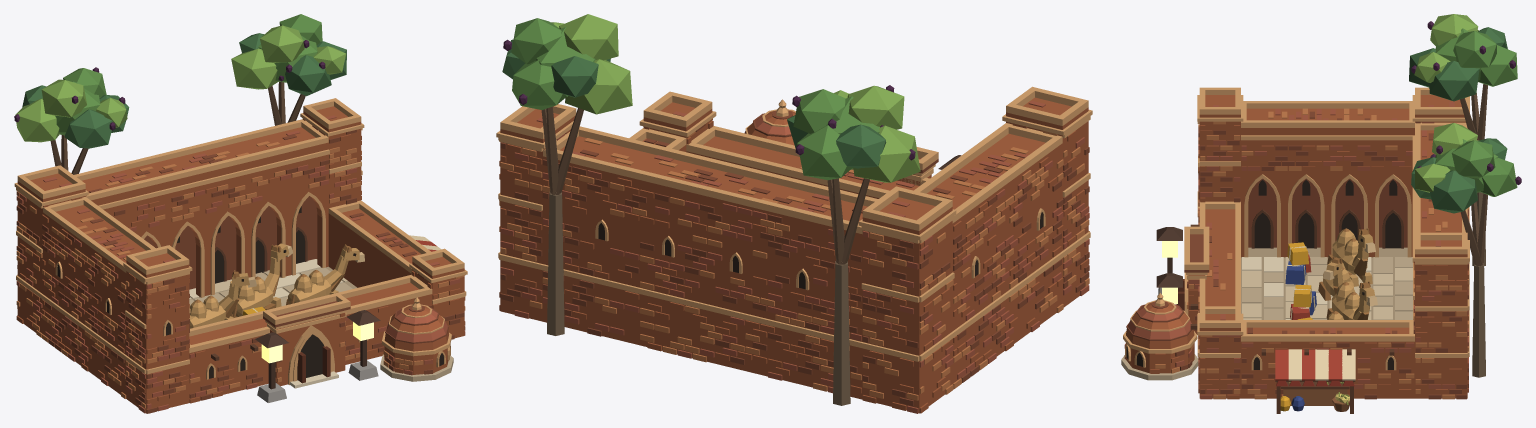
File: caravanserai_town.glb
3 renders of one model, left to right at view 1: azimuth 30°, elevation 25°; view 2: azimuth 150°, elevation 25°; view 3: azimuth 270°, elevation 25°, orthographic. The views are drawn at different scales.
Parts seen in each view (by area): view 1: caravanserai_town_CS_Brick, caravanserai_town_CS_EarthLight, caravanserai_town_CS_BrickDark, caravanserai_town_CS_LeafFreshLight, caravanserai_town_CS_BrickWarm, caravanserai_town_CS_BrickLight, caravanserai_town_CS_Camel, caravanserai_town_CS_LeafFreshDark, caravanserai_town_CS_LeafFresh, caravanserai_town_CS_Branch, caravanserai_town_CS_StoneMid, caravanserai_town_CS_Dark (+8 smaller); view 2: caravanserai_town_CS_Brick, caravanserai_town_CS_EarthLight, caravanserai_town_CS_BrickLight, caravanserai_town_CS_BrickWarm, caravanserai_town_CS_BrickDark, caravanserai_town_CS_LeafFreshLight, caravanserai_town_CS_LeafFresh, caravanserai_town_CS_Bark, caravanserai_town_CS_LeafFreshDark, caravanserai_town_CS_Branch, caravanserai_town_CS_Dark; view 3: caravanserai_town_CS_Brick, caravanserai_town_CS_EarthLight, caravanserai_town_CS_BrickDark, caravanserai_town_CS_LeafFresh, caravanserai_town_CS_BrickWarm, caravanserai_town_CS_LeafFreshDark, caravanserai_town_CS_BrickLight, caravanserai_town_CS_StoneMid, caravanserai_town_CS_LeafFreshLight, caravanserai_town_CS_Camel, caravanserai_town_CS_Stone, caravanserai_town_CS_Dark (+14 smaller).
Part boxes in pixels (left/top/right/bottom): caravanserai_town_CS_Brick: left=16, top=106, right=465, bottom=413; caravanserai_town_CS_EarthLight: left=14, top=98, right=467, bottom=384; caravanserai_town_CS_BrickDark: left=16, top=129, right=465, bottom=413; caravanserai_town_CS_LeafFreshLight: left=15, top=25, right=345, bottom=142; caravanserai_town_CS_BrickWarm: left=16, top=115, right=465, bottom=413; caravanserai_town_CS_BrickLight: left=16, top=118, right=465, bottom=408; caravanserai_town_CS_Camel: left=189, top=243, right=359, bottom=328; caravanserai_town_CS_LeafFreshDark: left=22, top=33, right=346, bottom=148; caravanserai_town_CS_LeafFresh: left=41, top=14, right=322, bottom=135; caravanserai_town_CS_Branch: left=50, top=82, right=305, bottom=174; caravanserai_town_CS_StoneMid: left=189, top=267, right=453, bottom=381; caravanserai_town_CS_Dark: left=57, top=206, right=443, bottom=378; caravanserai_town_CS_Brick: left=499, top=97, right=1089, bottom=413; caravanserai_town_CS_EarthLight: left=496, top=86, right=1092, bottom=361; caravanserai_town_CS_BrickLight: left=499, top=130, right=1089, bottom=400; caravanserai_town_CS_BrickWarm: left=500, top=100, right=1089, bottom=413; caravanserai_town_CS_BrickDark: left=499, top=110, right=1089, bottom=406; caravanserai_town_CS_LeafFreshLight: left=551, top=14, right=920, bottom=182; caravanserai_town_CS_LeafFresh: left=511, top=18, right=879, bottom=180; caravanserai_town_CS_Bark: left=547, top=191, right=850, bottom=405; caravanserai_town_CS_LeafFreshDark: left=502, top=39, right=886, bottom=168; caravanserai_town_CS_Branch: left=541, top=106, right=869, bottom=264; caravanserai_town_CS_Dark: left=598, top=212, right=1043, bottom=289; caravanserai_town_CS_Brick: left=1126, top=95, right=1468, bottom=399; caravanserai_town_CS_EarthLight: left=1123, top=87, right=1469, bottom=370; caravanserai_town_CS_BrickDark: left=1124, top=111, right=1468, bottom=399; caravanserai_town_CS_LeafFresh: left=1435, top=28, right=1517, bottom=196; caravanserai_town_CS_BrickWarm: left=1124, top=101, right=1468, bottom=399; caravanserai_town_CS_LeafFreshDark: left=1409, top=27, right=1507, bottom=213; caravanserai_town_CS_BrickLight: left=1155, top=108, right=1468, bottom=399; caravanserai_town_CS_StoneMid: left=1121, top=257, right=1412, bottom=380; caravanserai_town_CS_LeafFreshLight: left=1414, top=14, right=1478, bottom=192; caravanserai_town_CS_Camel: left=1323, top=230, right=1374, bottom=319; caravanserai_town_CS_Stone: left=1242, top=257, right=1412, bottom=319; caravanserai_town_CS_Dark: left=1126, top=180, right=1401, bottom=369.
Bounding box in the file's own units: 3.73 × 2.36 × 3.5.
